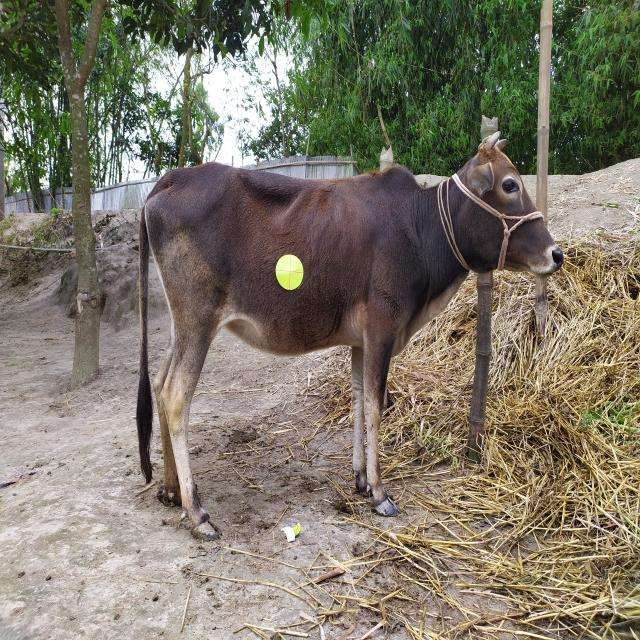badan_sapi: (146, 176, 420, 353)
sapi: (132, 120, 574, 542)
